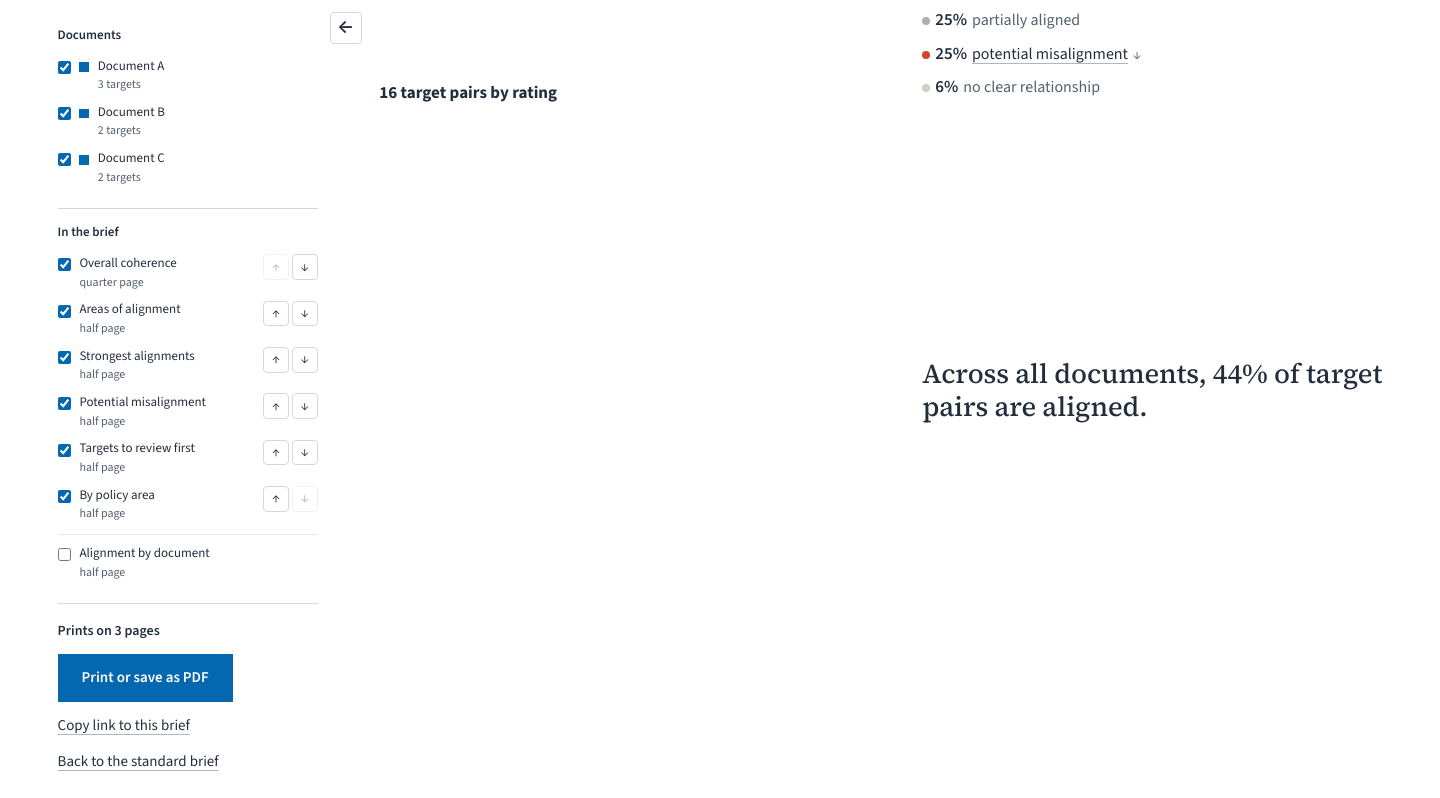
Scenario: BriefApp › adds a page with the documents side by side, which the standard brief leaves out
(page scrolled)
Click the checkbox labelled "Alignment by document half page" at (64, 555), box [58,549,71,562]
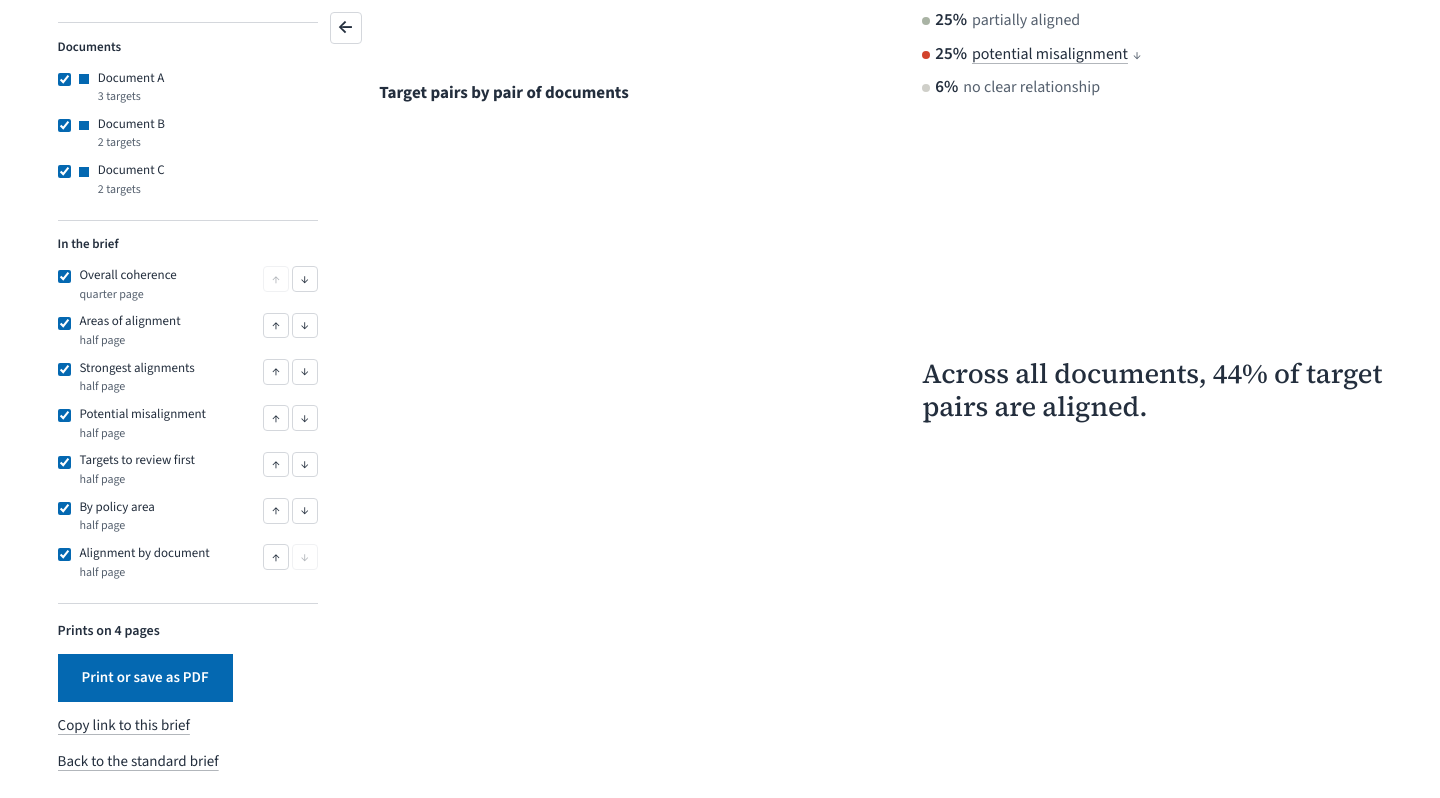
Result: the text "Prints on 4 pages" is shown at [58,620,160,642]
